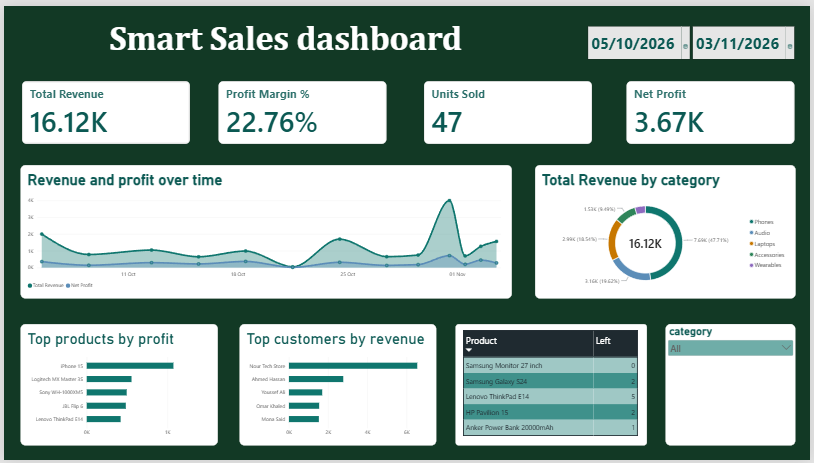

The dashboard page shown, as its layout file describes it:
{"tool":"powerbi","page":{"name":"Page 1","canvas":[1920,1080],"ordinal":0},"visuals":[{"type":"cardVisual","fields":{"Data":["sales.Total Revenue"]},"box":[43,177.3,400,150],"z":0},{"type":"cardVisual","fields":{"Data":["sales.Net Profit"]},"box":[1483.7,179.8,400,150],"z":1000},{"type":"cardVisual","fields":{"Data":["sales.Profit Margin %"]},"box":[510.1,179.8,400,150],"z":2000},{"type":"cardVisual","fields":{"Data":["sales.Units Sold"]},"box":[1001.2,179.8,400,150],"z":3000},{"type":"lineChart","title":"Revenue and profit over time","fields":{"Category":["sales.sale_date"],"Y":["sales.Total Revenue","sales.Net Profit"]},"box":[40,380,1169.7,318.2],"z":4000},{"type":"clusteredBarChart","title":"Top products by profit","fields":{"Category":["products.name"],"Y":["sales.Net Profit"]},"box":[39.1,756.2,470.3,289.1],"z":5000},{"type":"donutChart","fields":{"Category":["products.category"],"Y":["sales.Total Revenue"]},"box":[1262.5,380,620.5,318.2],"z":6000},{"type":"clusteredBarChart","title":"Top customers by revenue","fields":{"Category":["customers.name"],"Y":["sales.Total Revenue"]},"box":[560.9,756.2,468.8,289.1],"z":7000},{"type":"tableEx","fields":{"Values":["products.name","products.stock_quantity"]},"box":[1075,756.2,456.2,289.1],"z":8000},{"type":"slicer","fields":{"Values":["sales.sale_date"]},"box":[1380.8,42.3,503.8,84.6],"z":9000},{"type":"slicer","fields":{"Values":["products.category"]},"box":[1573.4,756.2,309.4,289.1],"z":10000},{"type":"textbox","box":[242.5,27.5,855,112.5],"z":11000}]}

Visuals, with their boxes in screenshot pixels (x1, y1, x2, y2), scaled from the page's 1920x1080 canvas onto the 814x463 screenshot:
cardVisual - sales.Total Revenue: region(18, 76, 188, 140)
cardVisual - sales.Net Profit: region(629, 77, 799, 141)
cardVisual - sales.Profit Margin %: region(216, 77, 386, 141)
cardVisual - sales.Units Sold: region(424, 77, 594, 141)
"Revenue and profit over time" lineChart: region(17, 163, 513, 299)
"Top products by profit" clusteredBarChart: region(17, 324, 216, 448)
donutChart - products.category x sales.Total Revenue: region(535, 163, 798, 299)
"Top customers by revenue" clusteredBarChart: region(238, 324, 437, 448)
tableEx - products.name x products.stock_quantity: region(456, 324, 649, 448)
slicer - sales.sale_date: region(585, 18, 799, 54)
slicer - products.category: region(667, 324, 798, 448)
textbox: region(103, 12, 465, 60)
